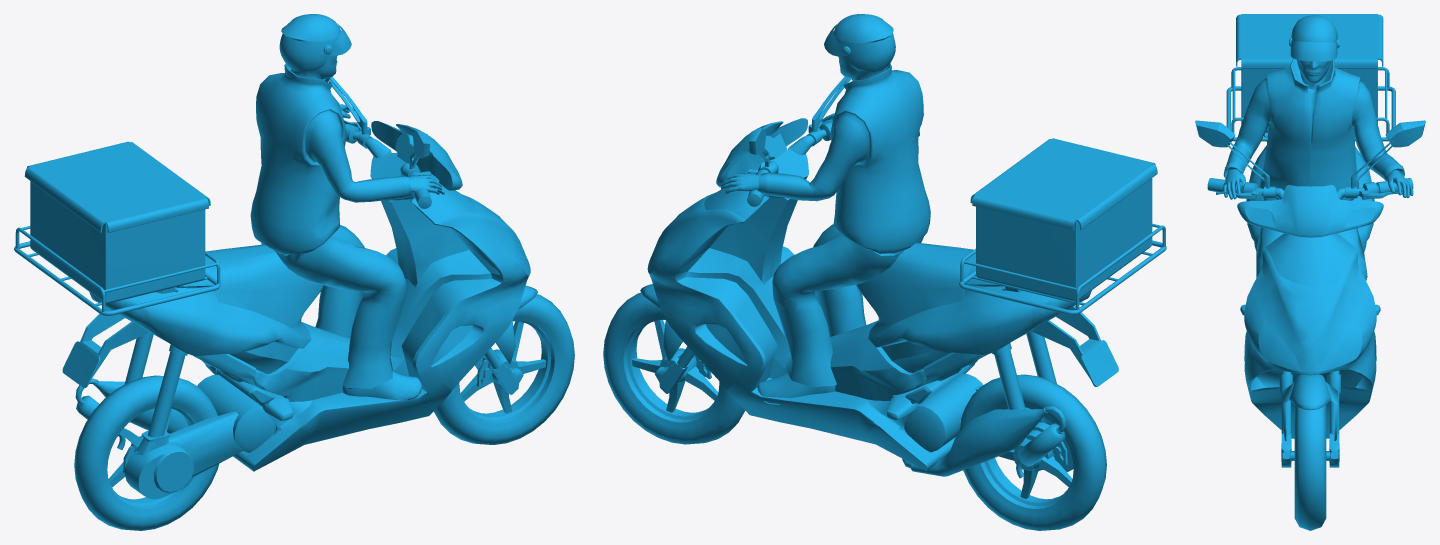
The model's file is car152.glb.
The picture shows the model from 3 angles, left to right: view 1: azimuth 30°, elevation 25°; view 2: azimuth 150°, elevation 25°; view 3: azimuth 270°, elevation 25°; orthographic projection. The views are drawn at different scales.
Parts seen in each view (by area): view 1: E_LeMa; view 2: E_LeMa; view 3: E_LeMa.
Boxes of the visible parts, <box> form: E_LeMa: <box>14,14,574,530</box>; E_LeMa: <box>603,14,1166,530</box>; E_LeMa: <box>1195,14,1425,530</box>.
Bounding box in the file's own units: 2.16 × 1.89 × 0.9331.
